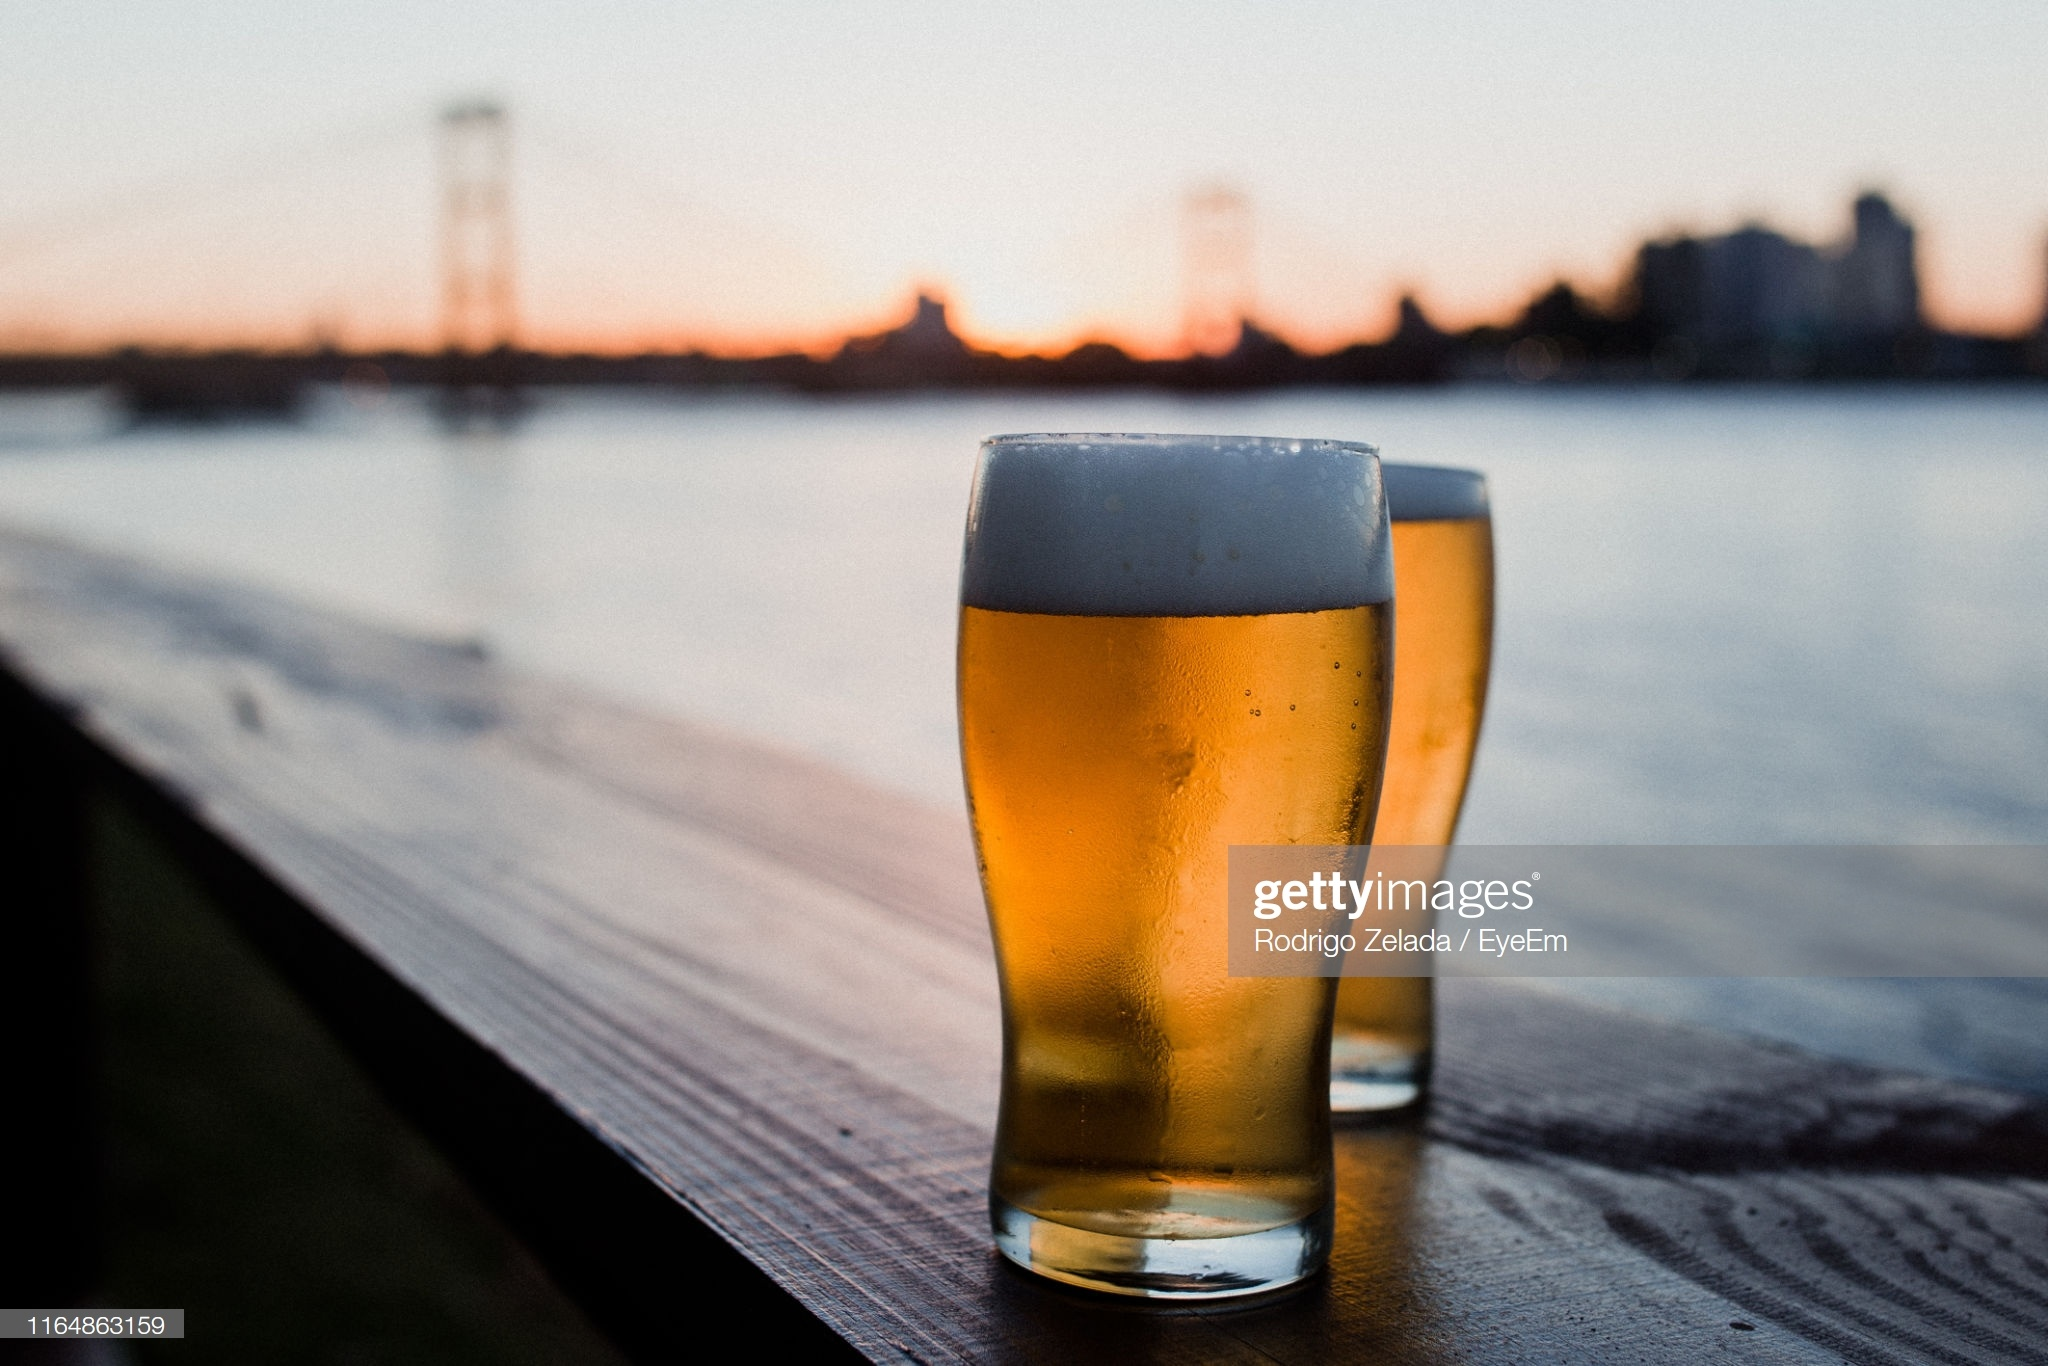glassBeer: (962, 441, 1396, 1278)
